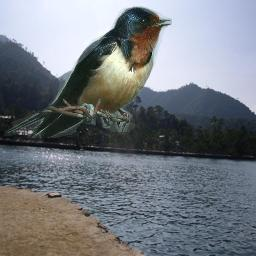Swallow: (4, 6, 172, 138)
